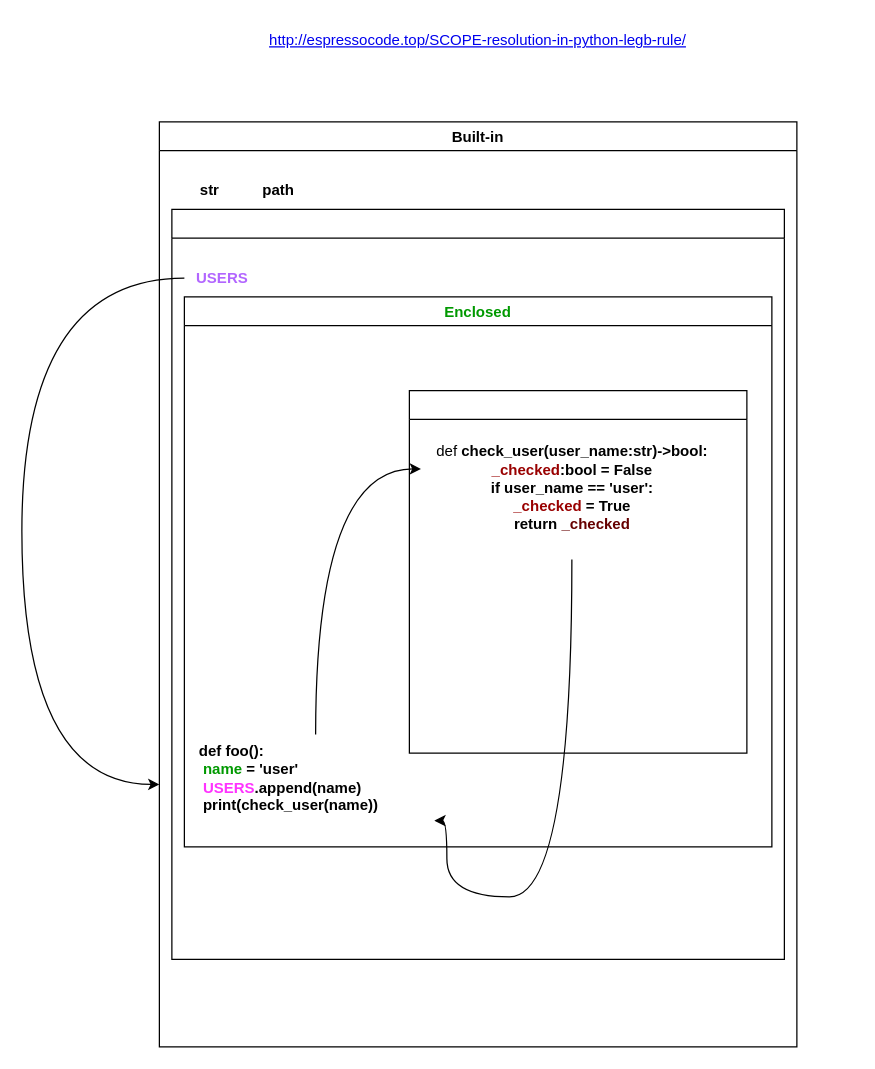
This 875x1069 diagram has some shape labels left out. Here are the shapes that lost their labels. From the top down, the box of each, then its label:
(171, 208, 784, 959): Global
(408, 389, 747, 753): Local
